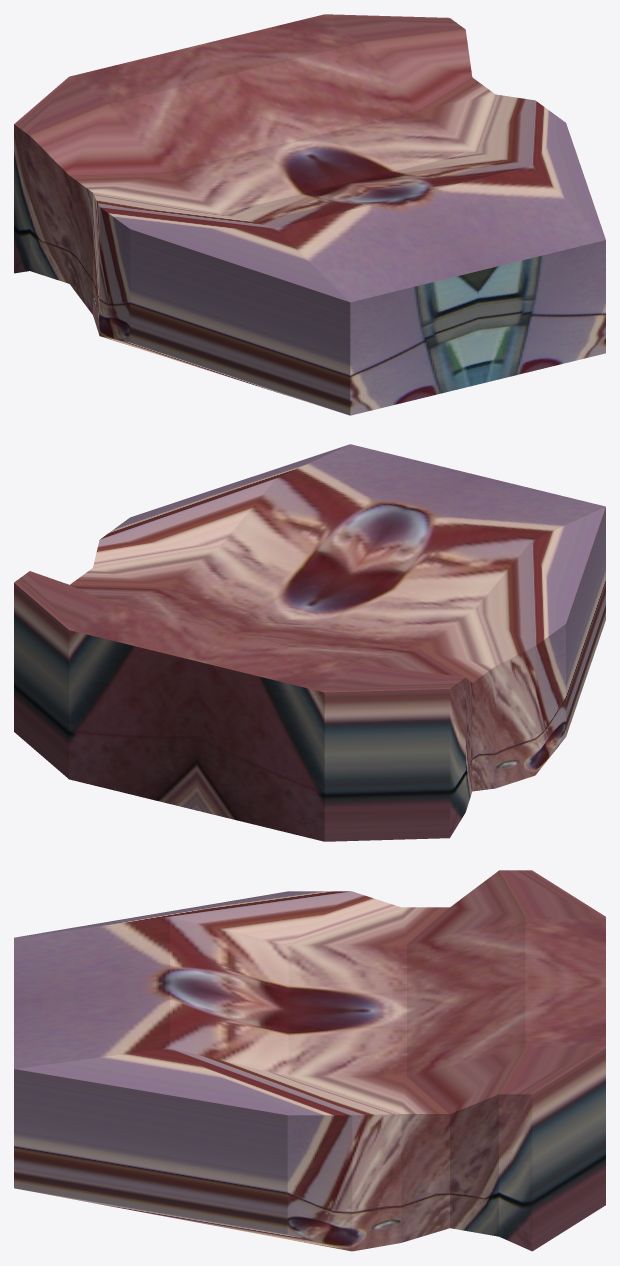
3 views of the same model, one above another, from view 1: azimuth 30°, elevation 25°; view 2: azimuth 150°, elevation 25°; view 3: azimuth 270°, elevation 25° (orthographic). The views are drawn at different scales.
Parts seen in each view (by area): view 1: Body-2_Cube.002; view 2: Body-2_Cube.002; view 3: Body-2_Cube.002.
Boxes of the visible parts, x1,y1,x2,y2 form: Body-2_Cube.002: (14, 14, 605, 415); Body-2_Cube.002: (14, 444, 605, 841); Body-2_Cube.002: (14, 870, 605, 1251).
Size of the model in its own units: 10.91 by 3.57 by 12.19.
